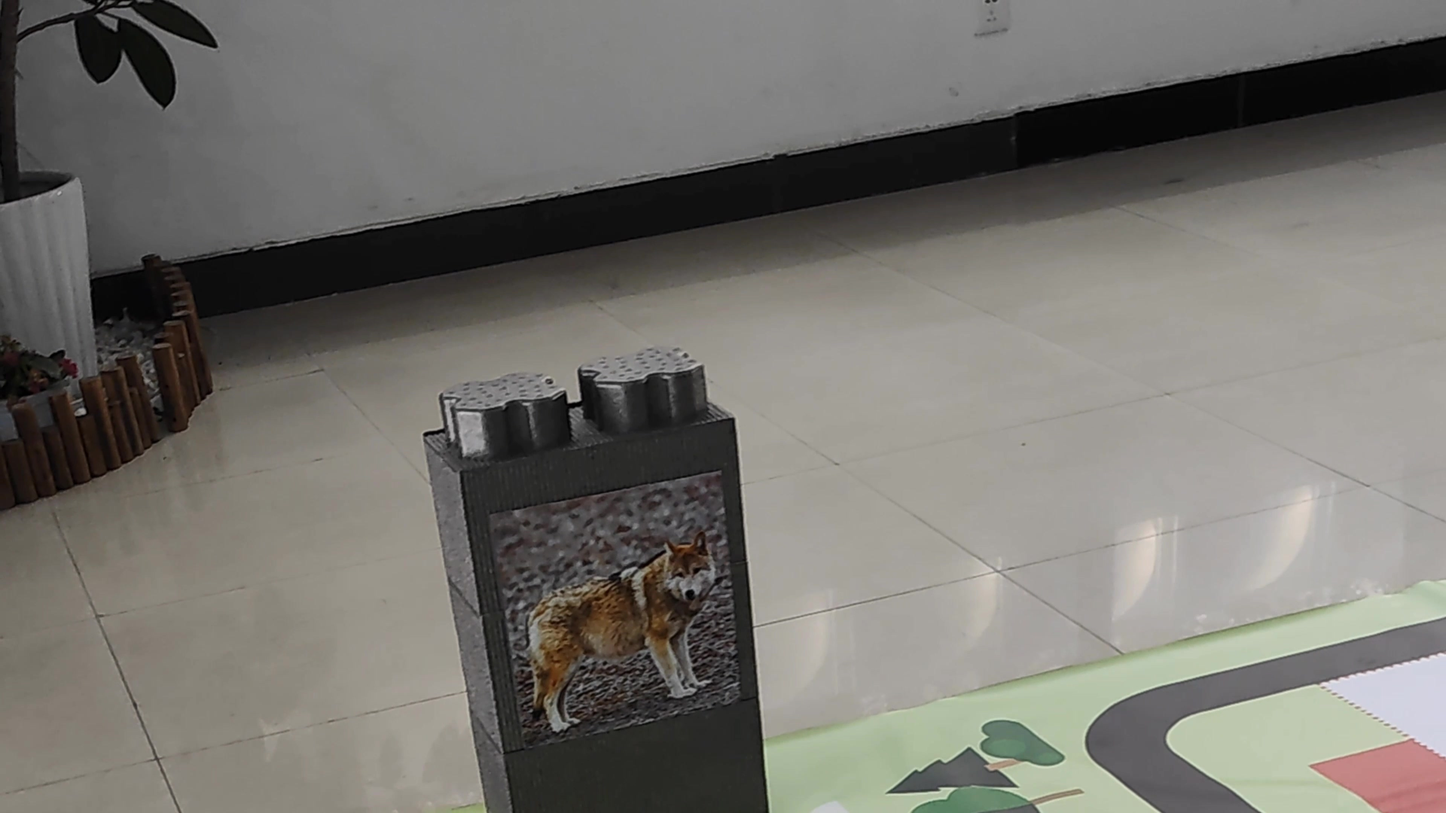wolf: (490, 500, 725, 729)
